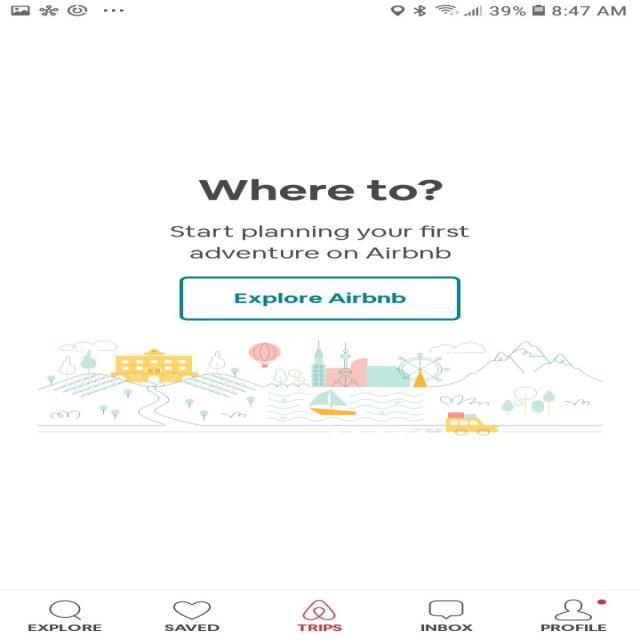Icon: (554, 599, 606, 620), (172, 600, 210, 620), (49, 599, 82, 620), (428, 600, 463, 619)
Image: (37, 340, 603, 436), (301, 599, 335, 620)
Text: (170, 225, 470, 259), (198, 179, 443, 201), (28, 624, 102, 632), (540, 624, 606, 631), (163, 624, 220, 632), (420, 624, 473, 632), (296, 624, 342, 632)
TextButton: (178, 276, 460, 321)
